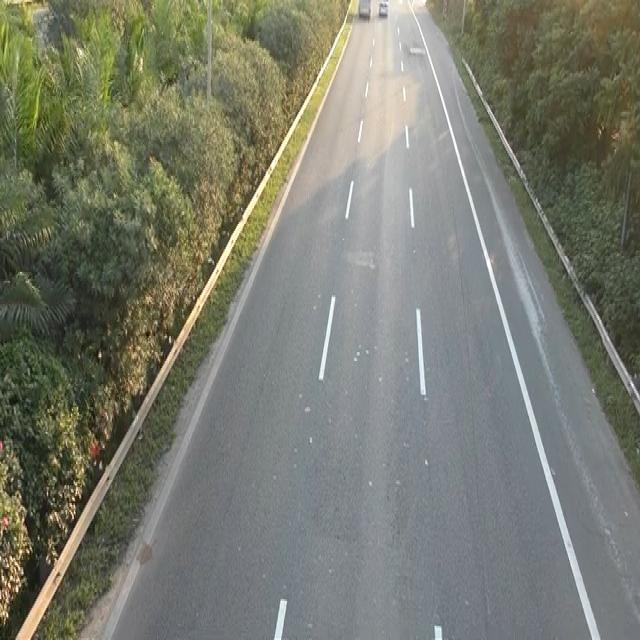bus: (377, 0, 389, 18)
jeep: (357, 0, 371, 20)
